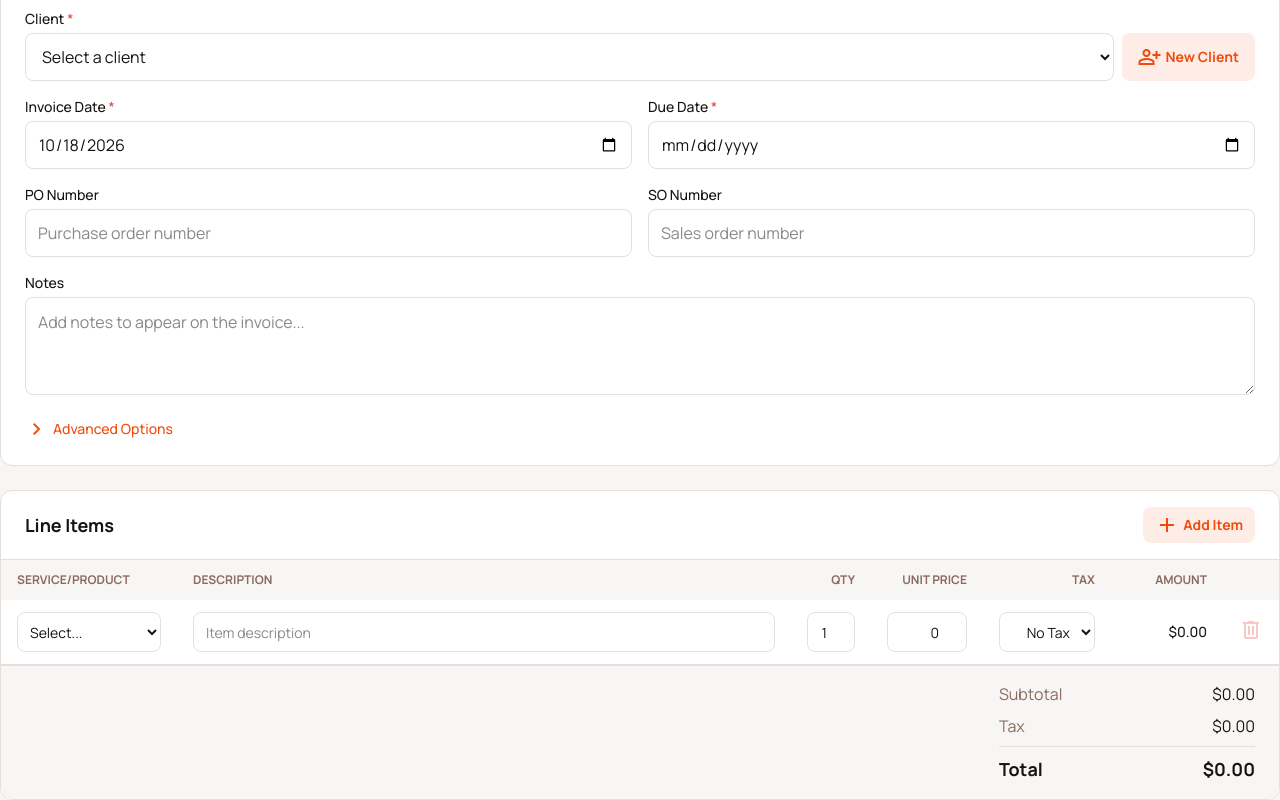
Test: InvoiceFormPage › line items › updates line item unit price
(page scrolled)
Replace the text in the number field with test id "invoice-item-unitPrice-0" with "150.00" at point(927, 632), box [887,612,967,652]
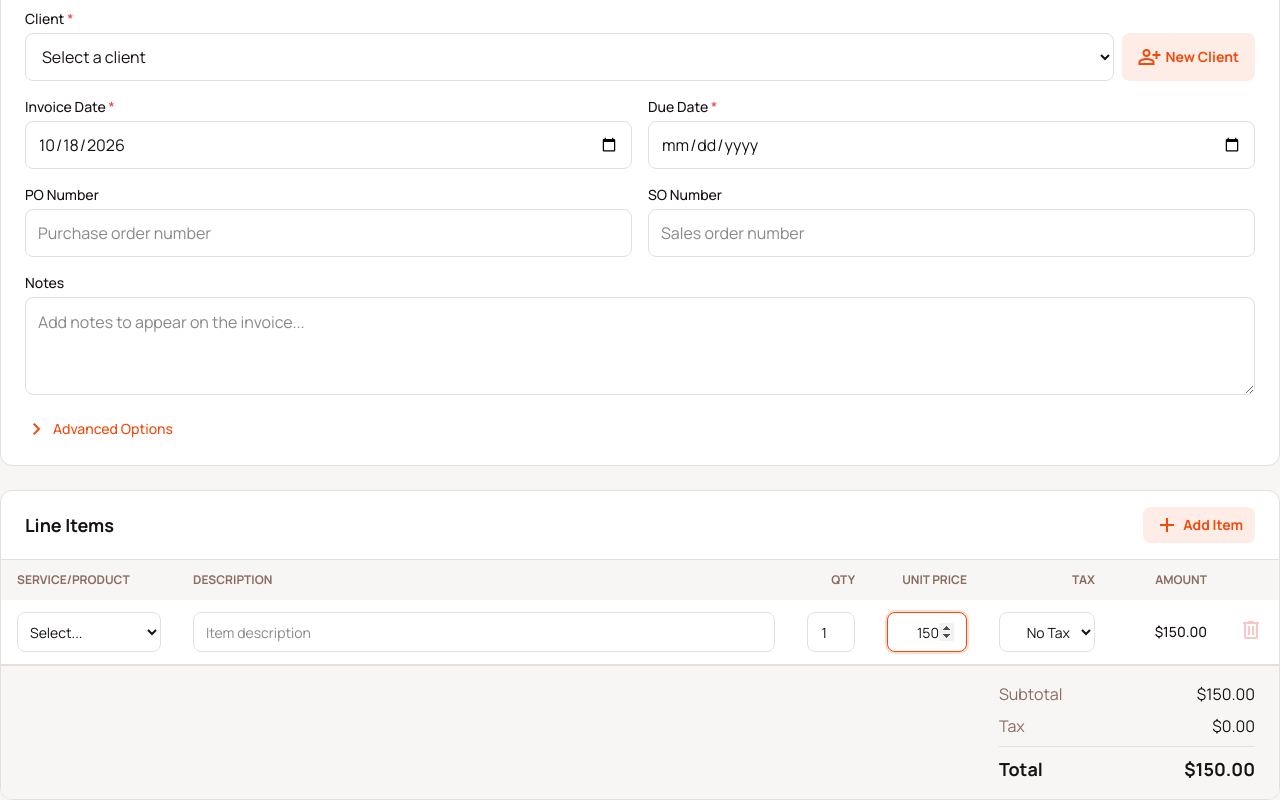
Check: the number field with test id "invoice-item-unitPrice-0" holds "150", box [887,612,967,652]
